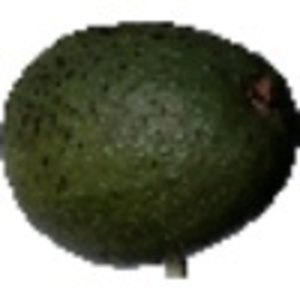abacate: (4, 15, 295, 266)
